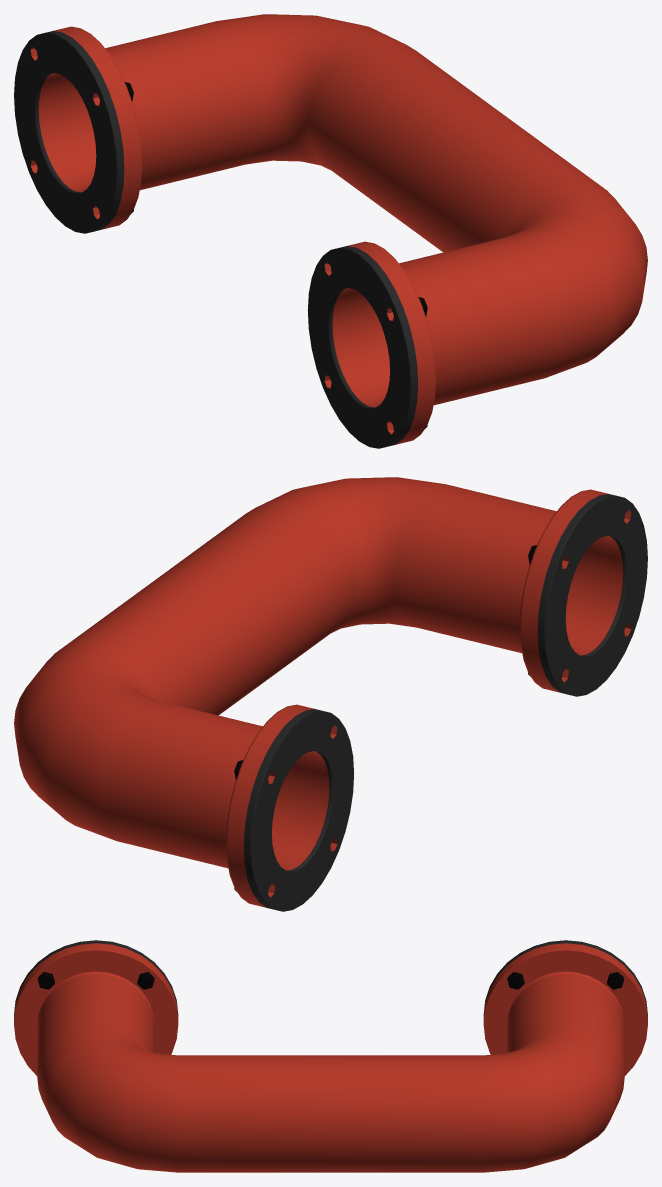
The model's file is AroundWallPipe.fbx.
The picture shows the model from 3 angles, top to bottom: view 1: azimuth 30°, elevation 25°; view 2: azimuth 150°, elevation 25°; view 3: azimuth 270°, elevation 25°; orthographic projection. The views are drawn at different scales.
Parts seen in each view (by area): view 1: Rec_Pipe; view 2: Rec_Pipe; view 3: Rec_Pipe.
Boxes of the visible parts, left/top/right/bottom form: Rec_Pipe: left=14, top=14, right=647, bottom=448; Rec_Pipe: left=14, top=477, right=647, bottom=911; Rec_Pipe: left=14, top=940, right=647, bottom=1172.
Size of the model in its own units: 25 by 14 by 54.
